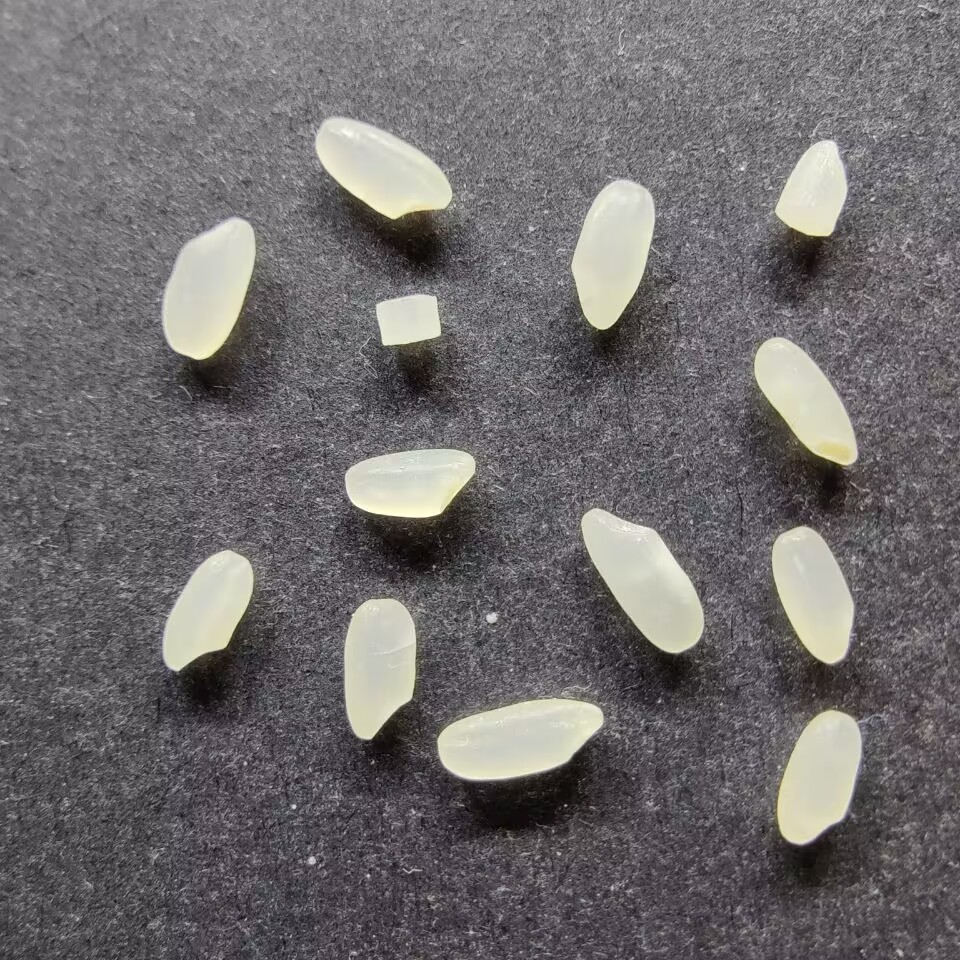broken: (773, 138, 847, 237), (375, 293, 439, 345)
rice: (579, 506, 706, 653), (313, 117, 452, 219), (436, 699, 603, 781), (753, 336, 858, 466), (161, 217, 256, 359), (569, 178, 655, 330), (770, 525, 855, 664), (776, 708, 862, 845), (161, 550, 253, 672), (343, 597, 417, 741), (344, 448, 475, 518)
